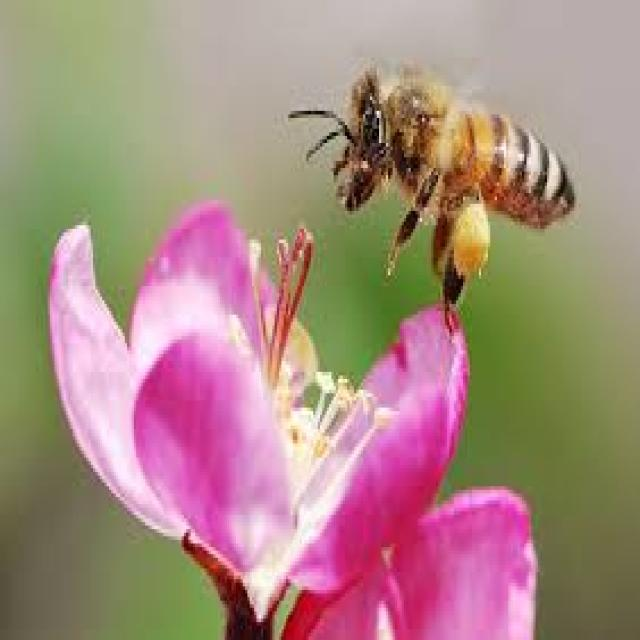Bees: (288, 61, 580, 328)
